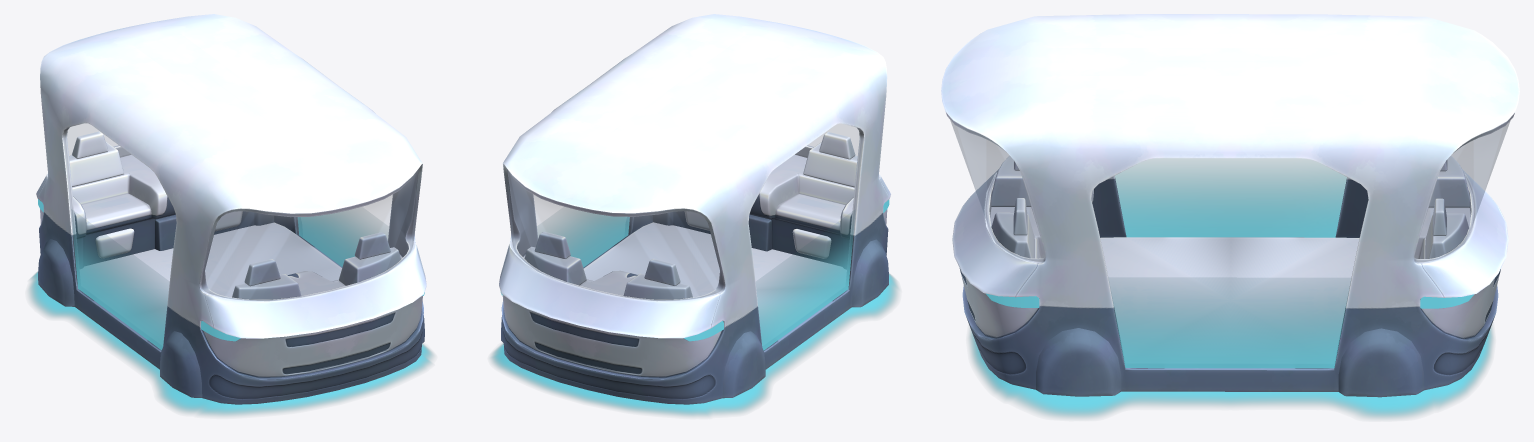
Rendered from obj_shuttle08.gltf.
3 renders of one model, left to right at view 1: azimuth 30°, elevation 25°; view 2: azimuth 150°, elevation 25°; view 3: azimuth 270°, elevation 25°, orthographic. The views are drawn at different scales.
Visible parts, largest first — view 1: obj_shuttle08_mesh, obj_shuttle08_shield01, obj_shuttle08_shield02; view 2: obj_shuttle08_mesh, obj_shuttle08_shield01, obj_shuttle08_shield02; view 3: obj_shuttle08_mesh, obj_shuttle08_shield02, obj_shuttle08_shield01.
Part boxes in pixels (<box>): obj_shuttle08_mesh: <box>28,14,433,415</box>; obj_shuttle08_shield01: <box>71,209,168,350</box>; obj_shuttle08_shield02: <box>297,210,387,266</box>; obj_shuttle08_mesh: <box>490,14,898,416</box>; obj_shuttle08_shield01: <box>756,212,854,350</box>; obj_shuttle08_shield02: <box>538,210,629,267</box>; obj_shuttle08_mesh: <box>941,14,1519,418</box>; obj_shuttle08_shield02: <box>1109,278,1350,368</box>; obj_shuttle08_shield01: <box>1115,159,1346,237</box>.
Size of what is drawn, in the model's own units: 4.07 by 3.23 by 5.99.
3 materials, 3 textured.
